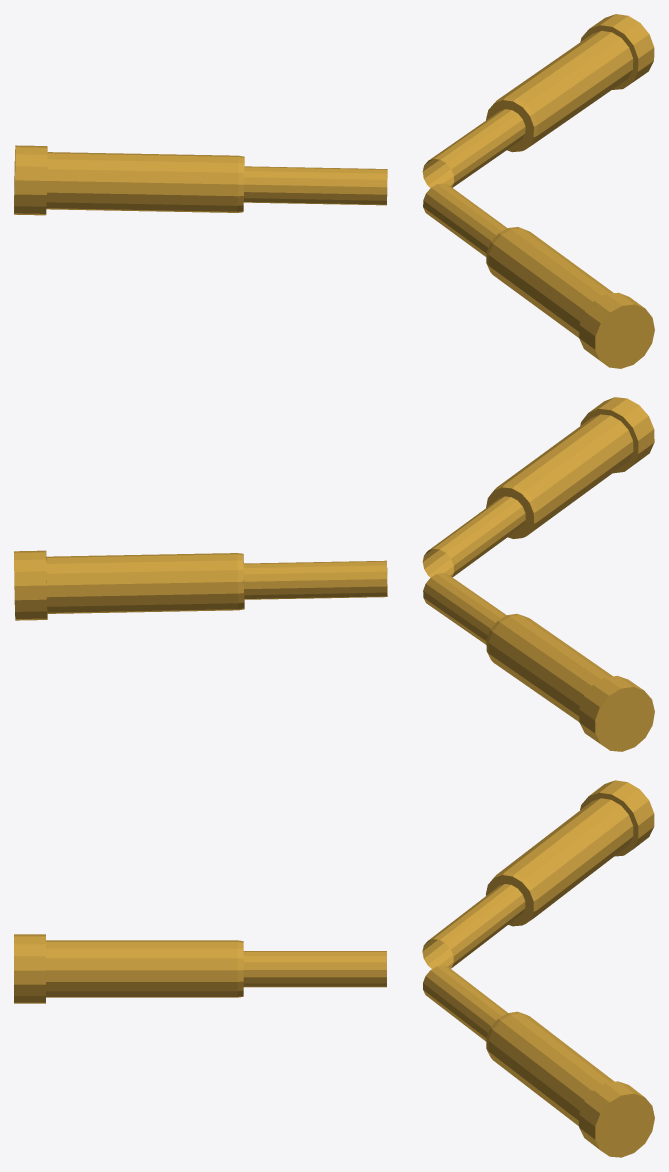
Rendered from 3_handle__lambert2SG.obj.
3 views of the same model, one above another, from view 1: azimuth 30°, elevation 25°; view 2: azimuth 150°, elevation 25°; view 3: azimuth 270°, elevation 25° (orthographic).
Visible parts, largest first — view 1: 3_handle__lambert2SG; view 2: 3_handle__lambert2SG; view 3: 3_handle__lambert2SG.
Boxes of the visible parts, x1,y1,x2,y2 form: 3_handle__lambert2SG: (14, 14, 654, 368); 3_handle__lambert2SG: (14, 397, 654, 751); 3_handle__lambert2SG: (14, 780, 654, 1157).
Bounding box in the file's own units: 0.1894 × 0.0221 × 0.1641.
